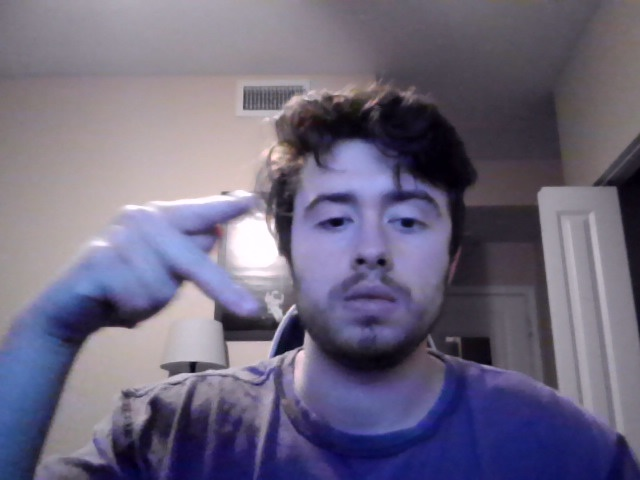p: (15, 188, 263, 350)
